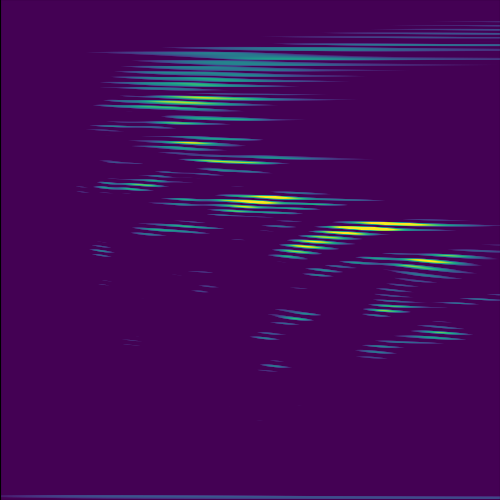semblance: (273, 215, 444, 263), (188, 184, 344, 222), (145, 129, 272, 169), (371, 241, 491, 281), (117, 92, 263, 116)
